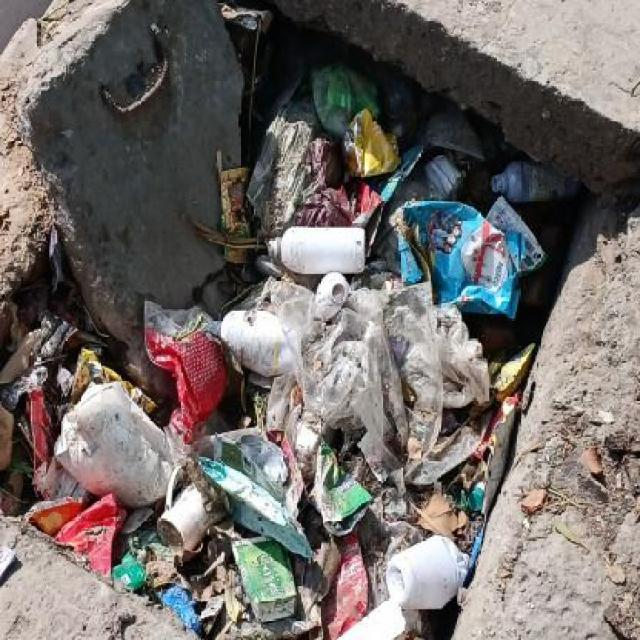garbage: (2, 306, 456, 640), (259, 49, 584, 440), (446, 437, 500, 587), (213, 120, 269, 241), (45, 239, 100, 305)
